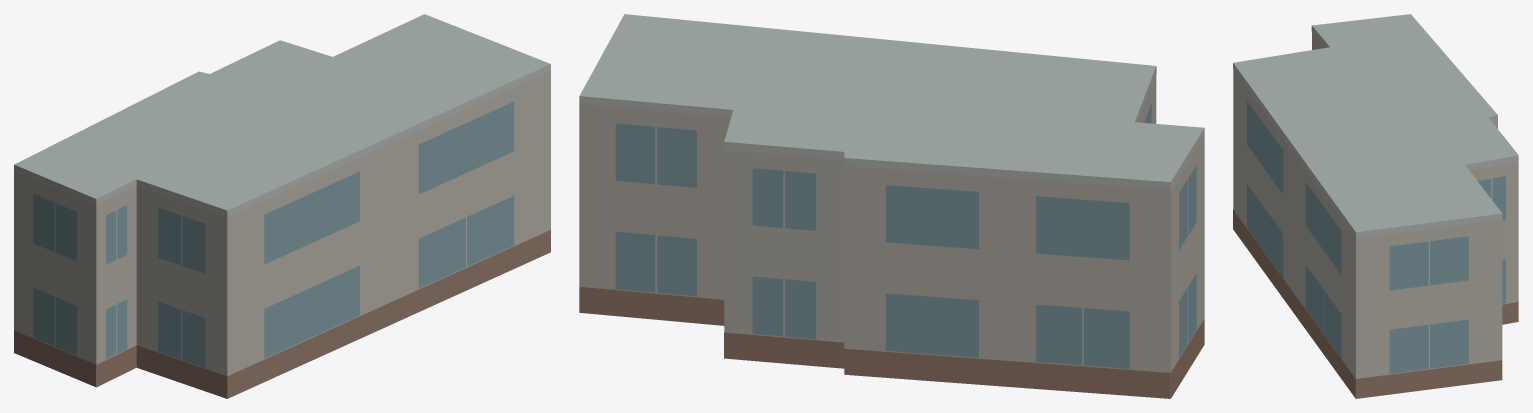
The model's file is survey-upis-32471836.glb.
3 renders of one model, left to right at view 1: azimuth 30°, elevation 25°; view 2: azimuth 150°, elevation 25°; view 3: azimuth 270°, elevation 25°, orthographic. The views are drawn at different scales.
Visible parts, largest first — view 1: survey-upis-32471836.tmp; view 2: survey-upis-32471836.tmp; view 3: survey-upis-32471836.tmp.
Boxes of the visible parts, x1,y1,x2,y2 form: survey-upis-32471836.tmp: (14, 14, 550, 398); survey-upis-32471836.tmp: (579, 14, 1204, 398); survey-upis-32471836.tmp: (1233, 14, 1518, 398).
Size of the model in its own units: 18.56 by 6.6 by 10.26.
